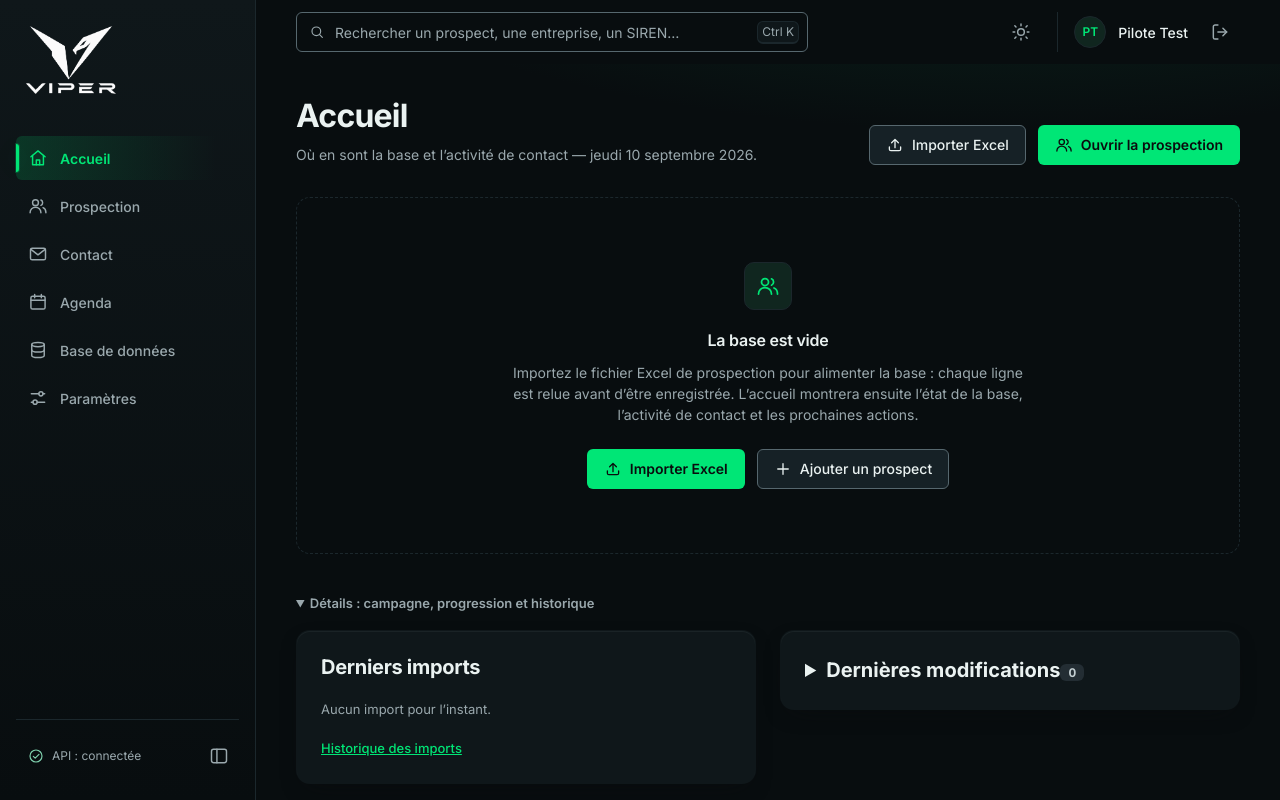
Test: UserMenu › reports a failed sign-out instead of pretending it worked
Click the button named "Se déconnecter" at (1220, 32), box [1200, 12, 1240, 52]
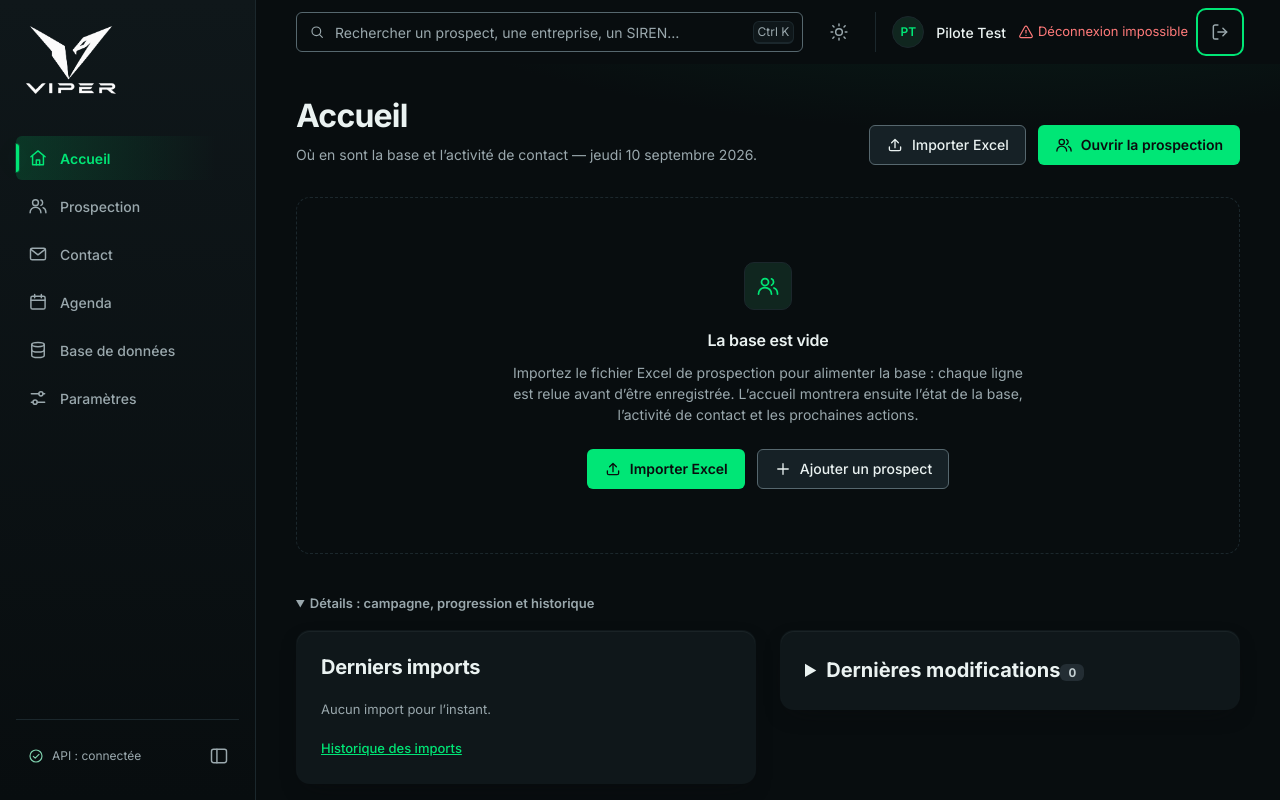
expect the heading "Accueil" is shown: met, box [296, 96, 408, 135]
expect the message "Déconnexion impossible" is shown: met, box [1018, 22, 1188, 42]
